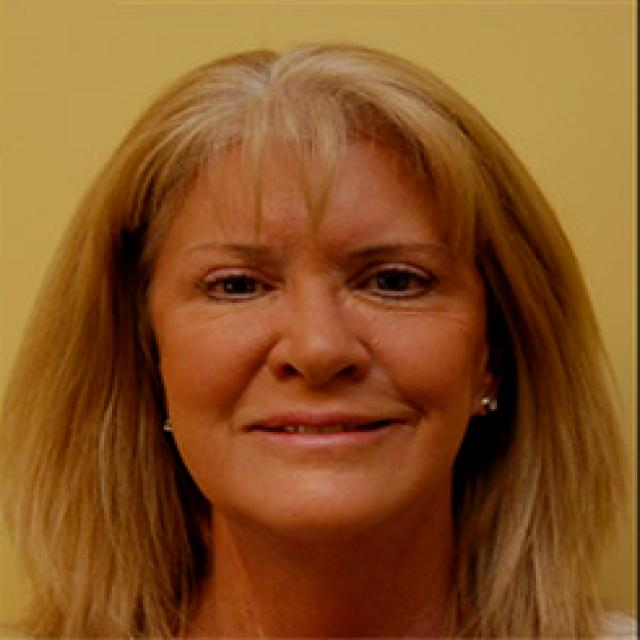normal_face: (168, 149, 462, 521)
